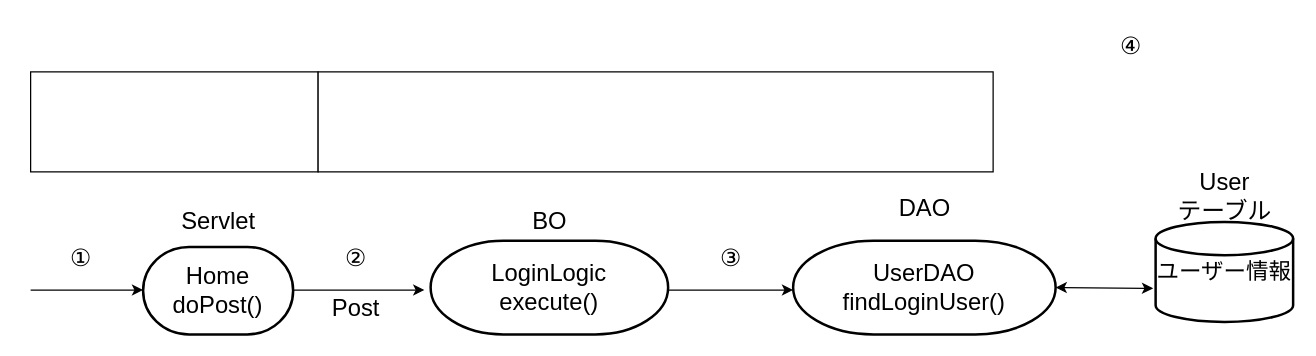
Some shapes in this 1316 by 356 pixel diagram are drawn without their labels. The centre of each missing label's shape, as x and y in pixels:
ログイン(メイン): the point at 655,121
基本アーキテクチャ図: the point at 173,121
